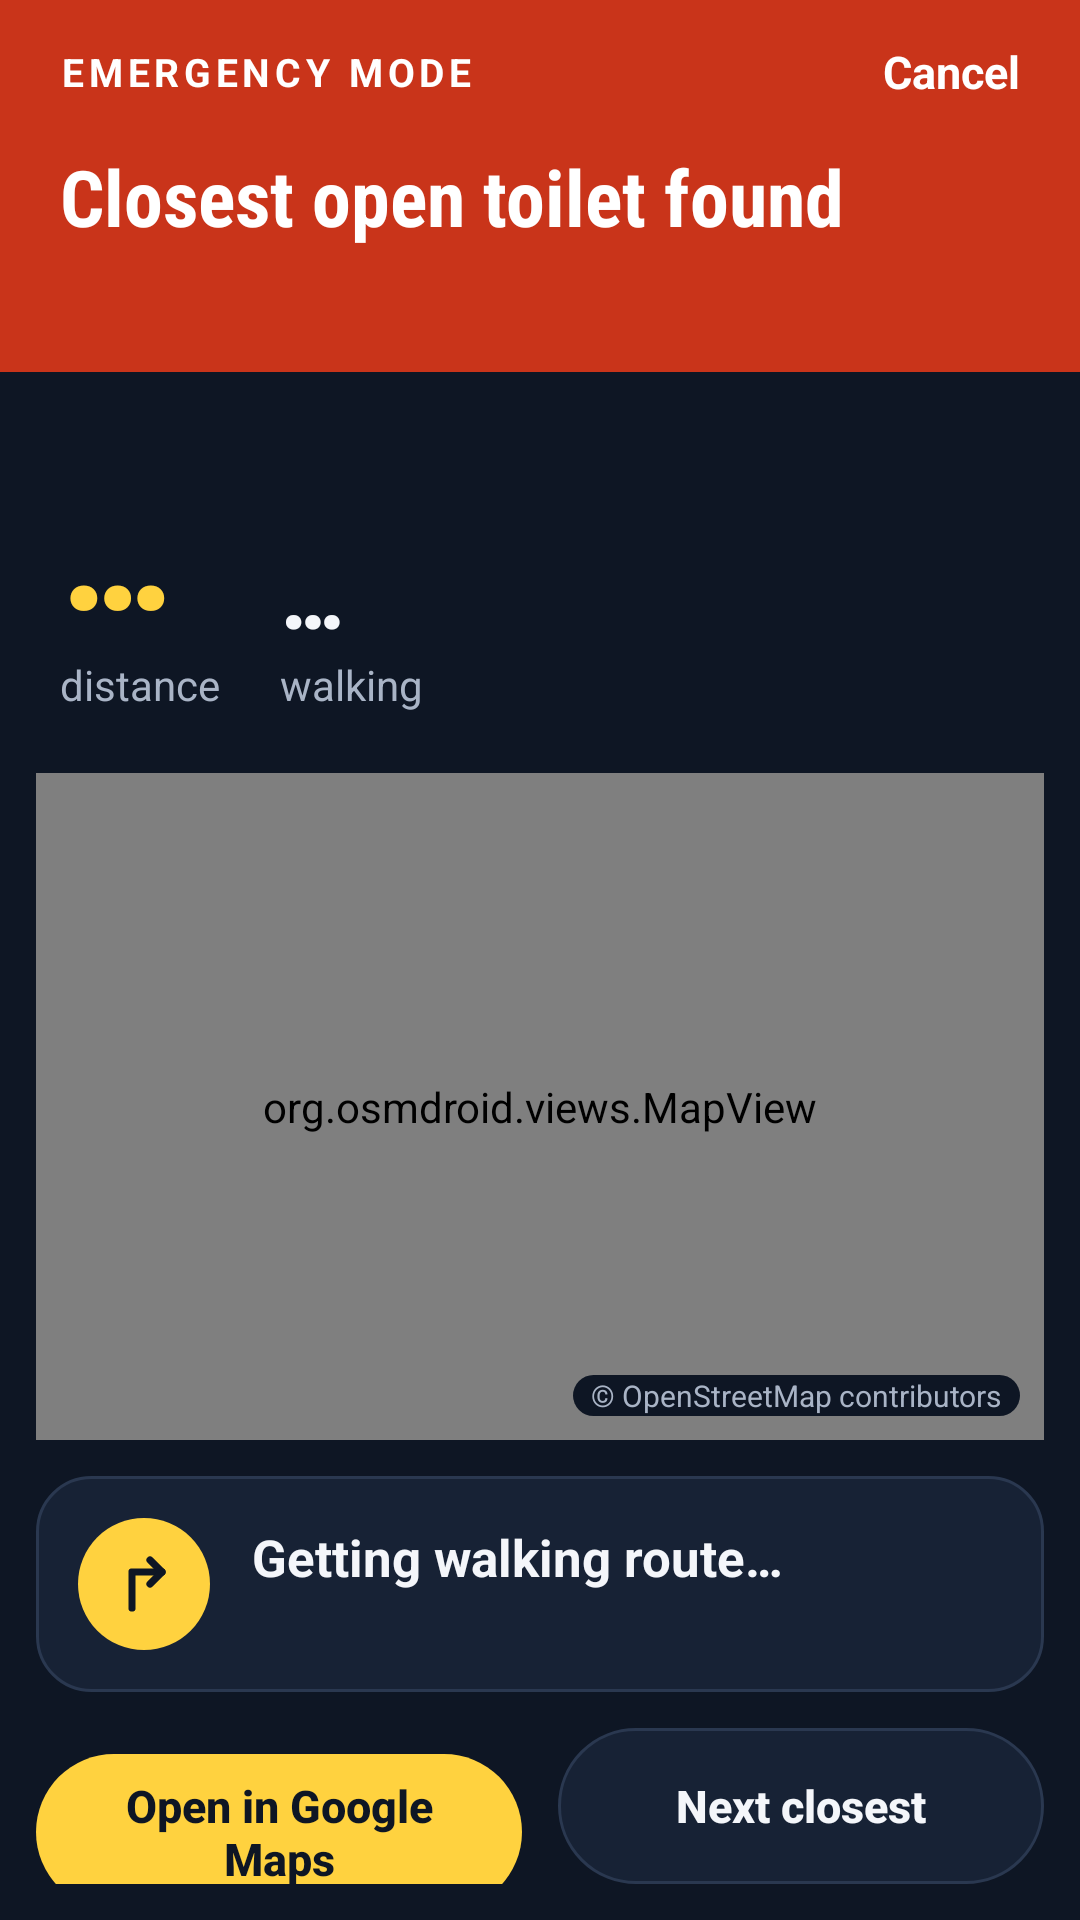

Point at icon controls on the screen. Image size 1080 x 1920, points as (x=x, y=y).
turn: (x=144, y=1584)
